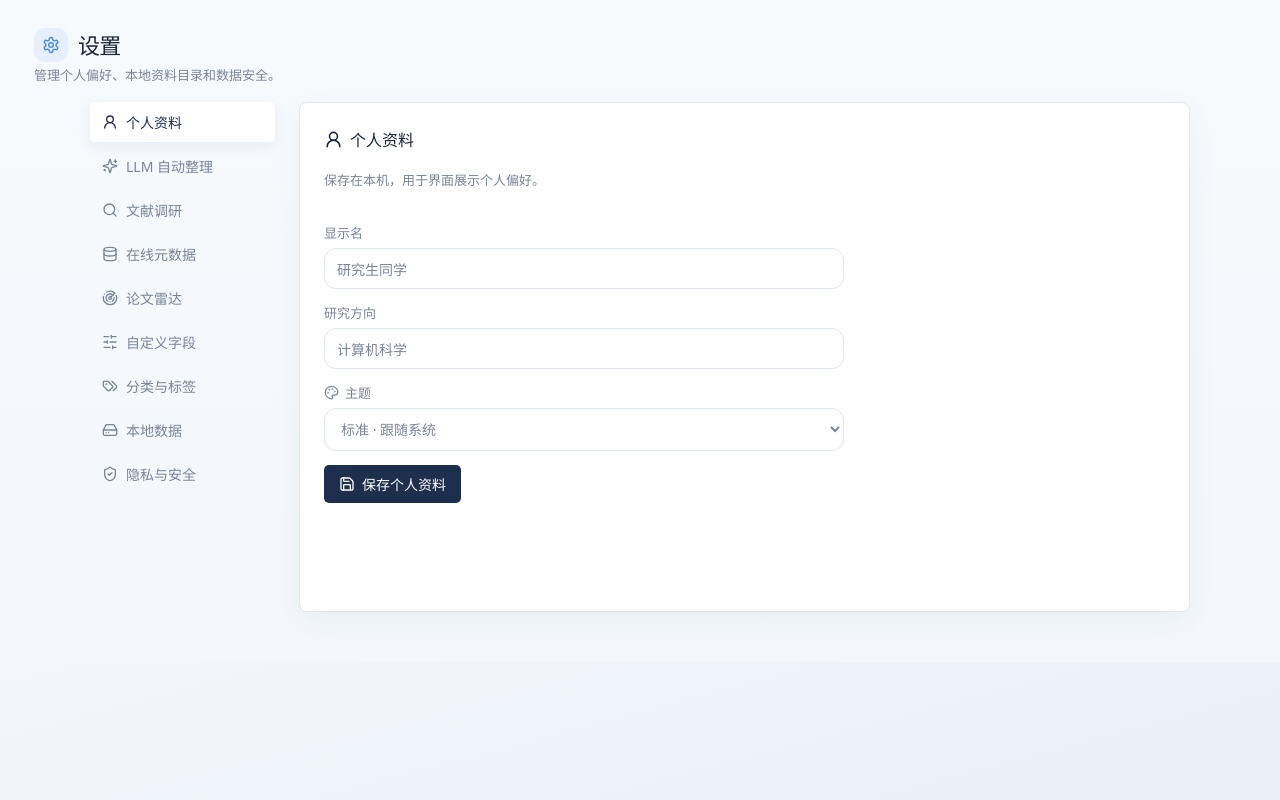
data settings errors › shows a backup error
This screenshot has width=1280, height=800.
Click the button "本地数据".
click(182, 430)  # box [90,410,275,450]
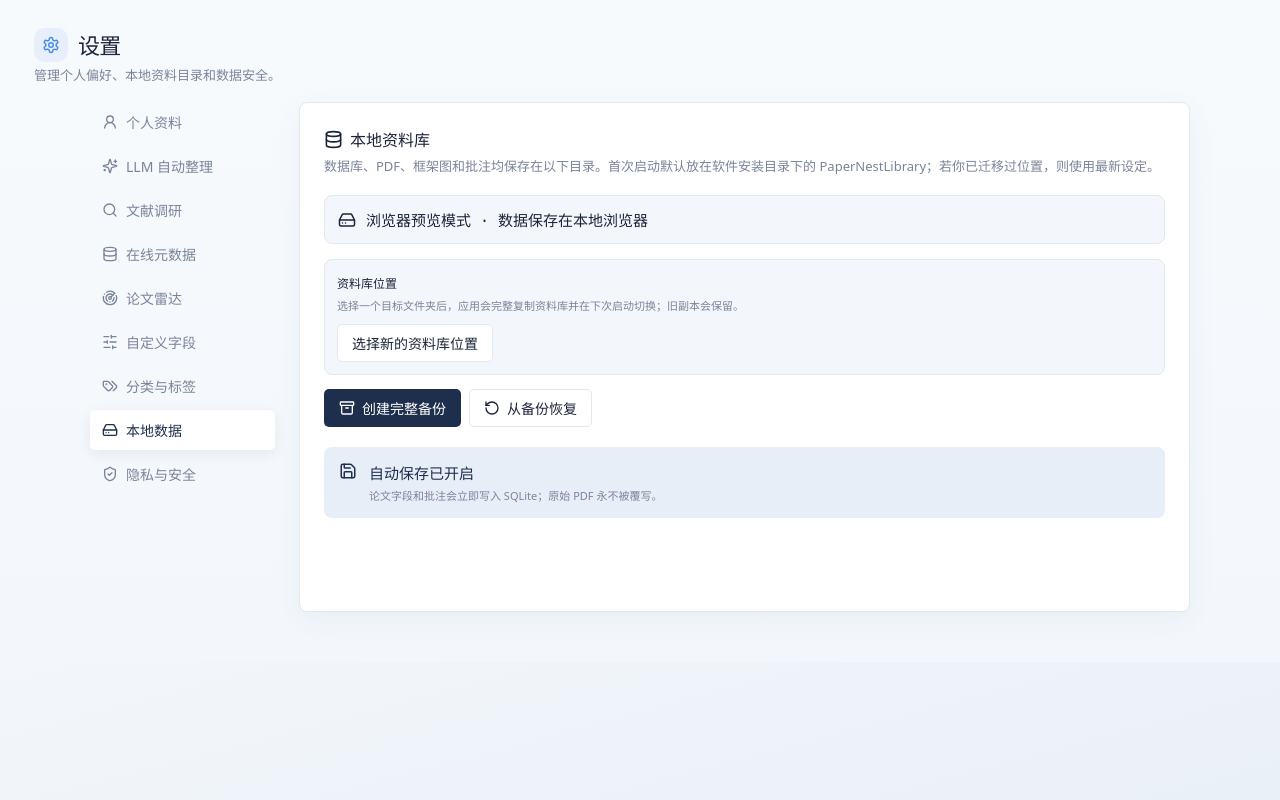
Click the button "创建完整备份".
click(392, 408)  # box [324,389,461,427]
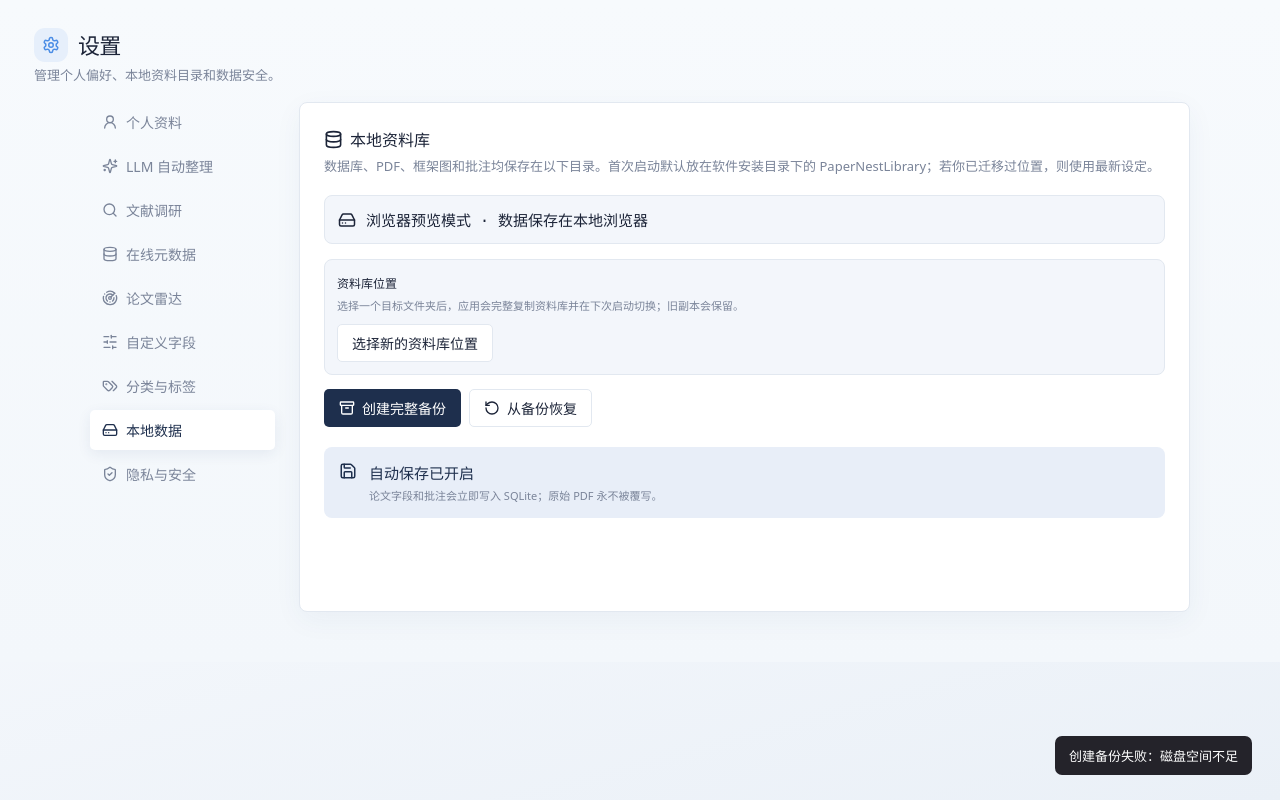
Expected: the text "创建备份失败：磁盘空间不足" is shown, [1055,736,1252,775]
